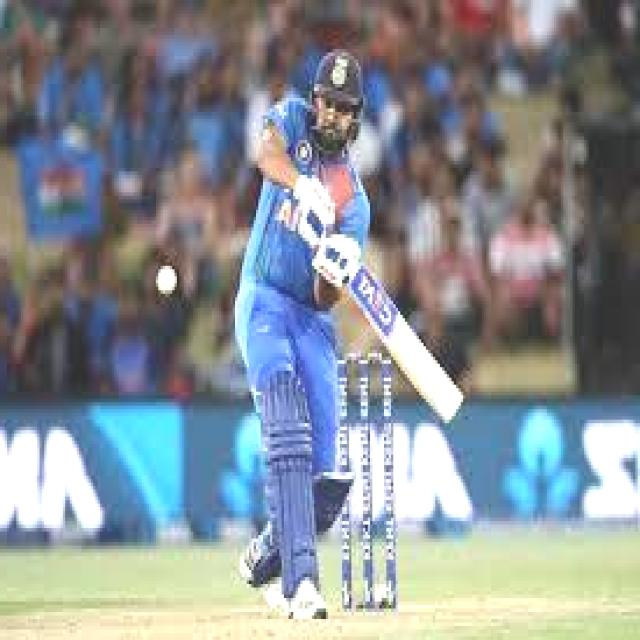toe: (443, 391, 467, 426)
